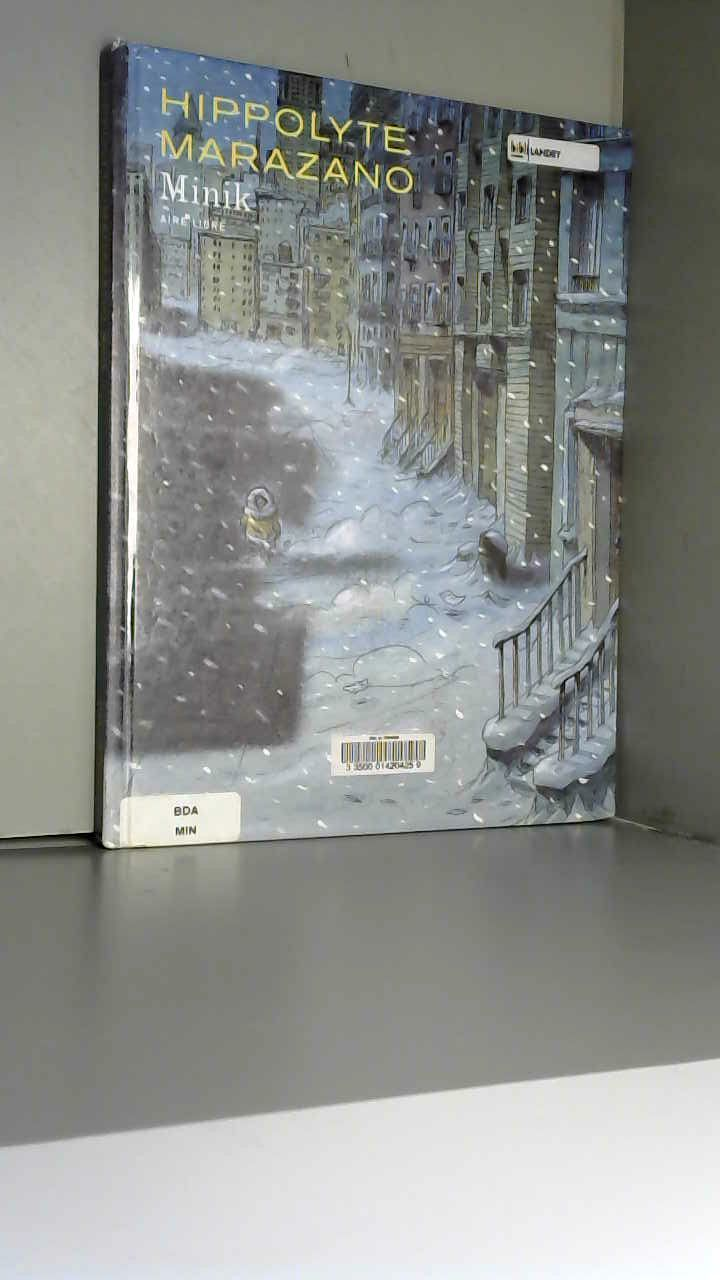book: (70, 20, 720, 932)
